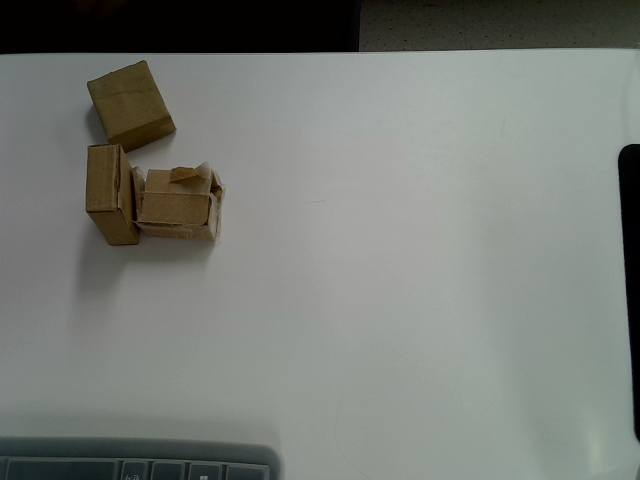defect: (132, 162, 224, 242)
normal: (87, 61, 177, 153), (85, 144, 135, 246)
